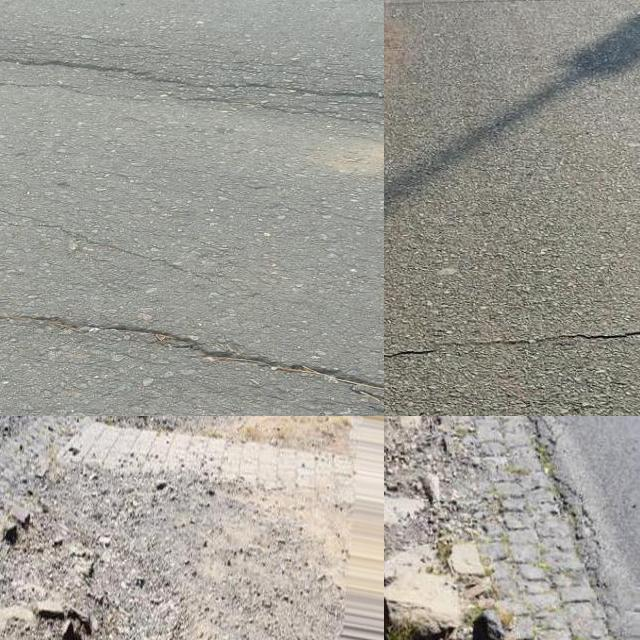Melintang: (0, 298, 384, 416), (0, 46, 384, 132), (384, 312, 640, 372)
Pinggir: (428, 416, 631, 640)
